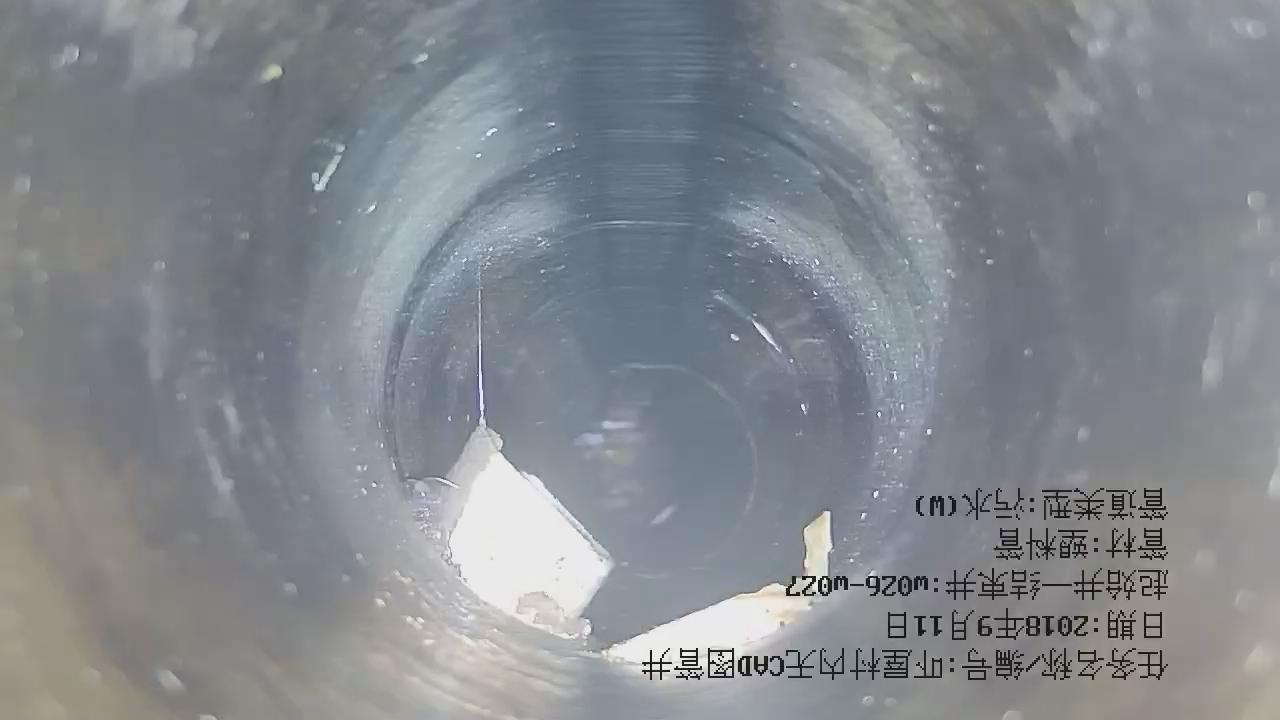ZGAJ: (412, 416, 613, 638), (603, 584, 815, 664), (802, 511, 833, 576)
